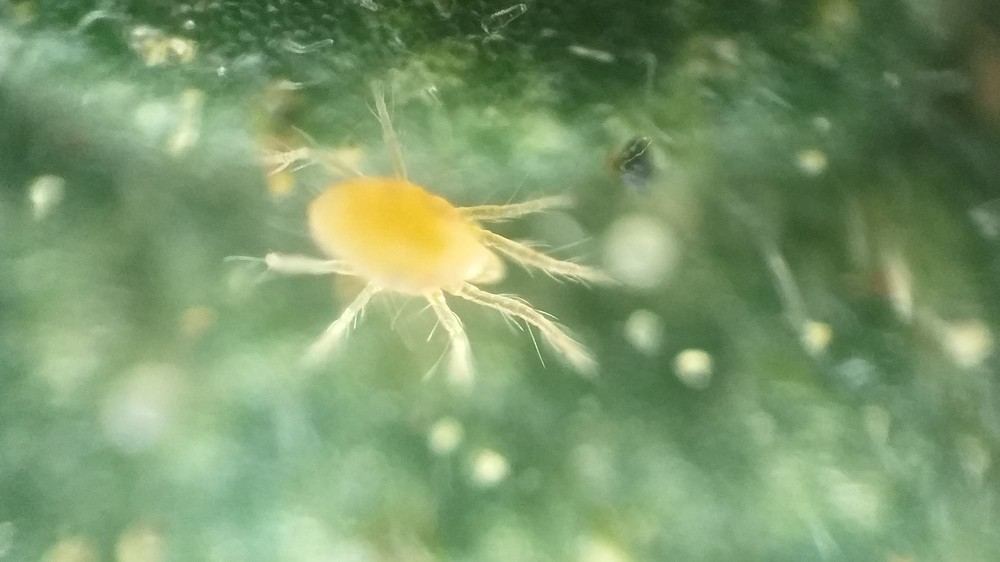Aracnido Rojo: (229, 95, 613, 409)
